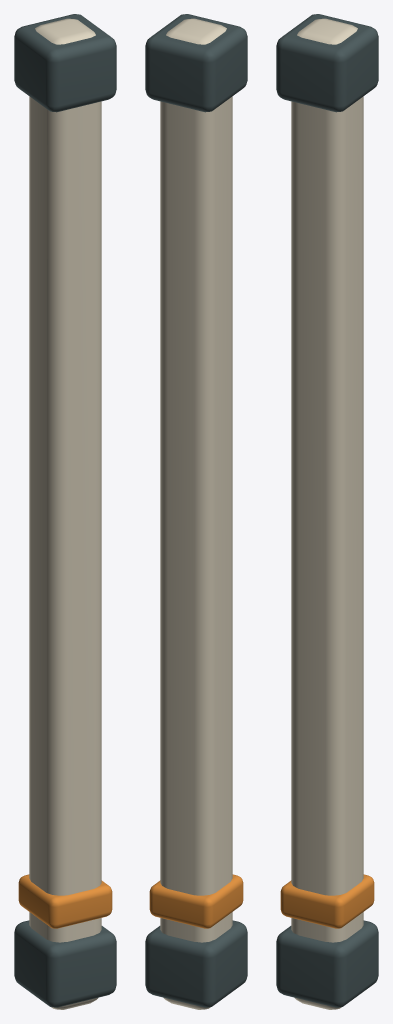
The model's file is garden-corner-post.glb.
3 views of the same model, side by side, from view 1: azimuth 30°, elevation 25°; view 2: azimuth 150°, elevation 25°; view 3: azimuth 330°, elevation 25° (orthographic).
Parts seen in each view (by area): view 1: garden-corner-post / 01 • warm porcelain paint, garden-corner-post / 06 • dark anodized frame, garden-corner-post / 03 • ochre enamel; view 2: garden-corner-post / 01 • warm porcelain paint, garden-corner-post / 06 • dark anodized frame, garden-corner-post / 03 • ochre enamel; view 3: garden-corner-post / 01 • warm porcelain paint, garden-corner-post / 06 • dark anodized frame, garden-corner-post / 03 • ochre enamel.
Boxes of the visible parts, x1=… form: garden-corner-post / 01 • warm porcelain paint: x1=29, y1=18, x2=101, y2=1009; garden-corner-post / 06 • dark anodized frame: x1=14, y1=14, x2=116, y2=1007; garden-corner-post / 03 • ochre enamel: x1=18, y1=874, x2=112, y2=928; garden-corner-post / 01 • warm porcelain paint: x1=160, y1=18, x2=232, y2=1009; garden-corner-post / 06 • dark anodized frame: x1=145, y1=14, x2=247, y2=1007; garden-corner-post / 03 • ochre enamel: x1=149, y1=874, x2=243, y2=928; garden-corner-post / 01 • warm porcelain paint: x1=291, y1=18, x2=363, y2=1009; garden-corner-post / 06 • dark anodized frame: x1=276, y1=14, x2=378, y2=1007; garden-corner-post / 03 • ochre enamel: x1=280, y1=874, x2=374, y2=928.
Bounding box in the file's own units: 0.21 × 2.8 × 0.21.
